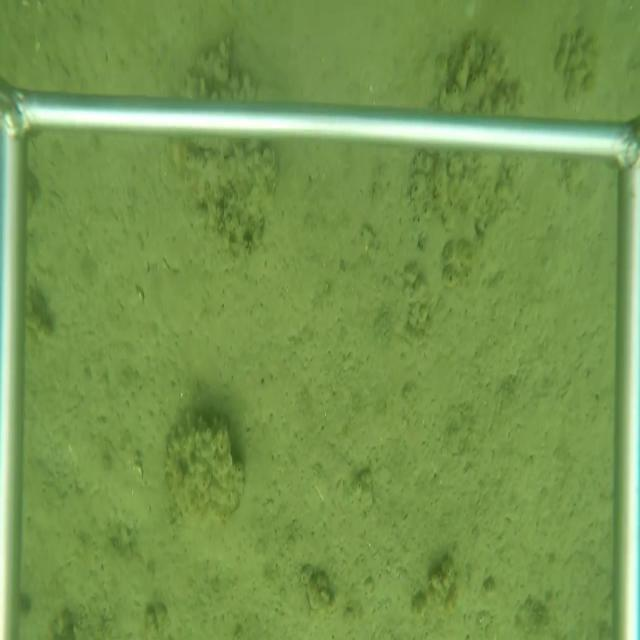Oyster-Indeterminate: (162, 407, 247, 518)
